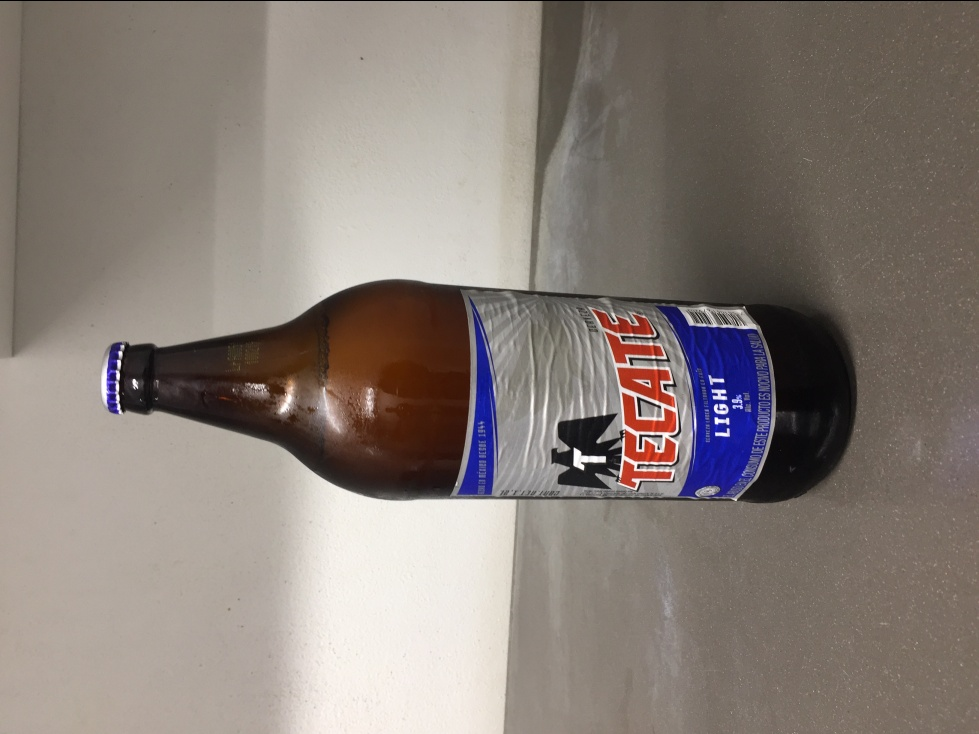tecateC: (100, 277, 858, 503)
